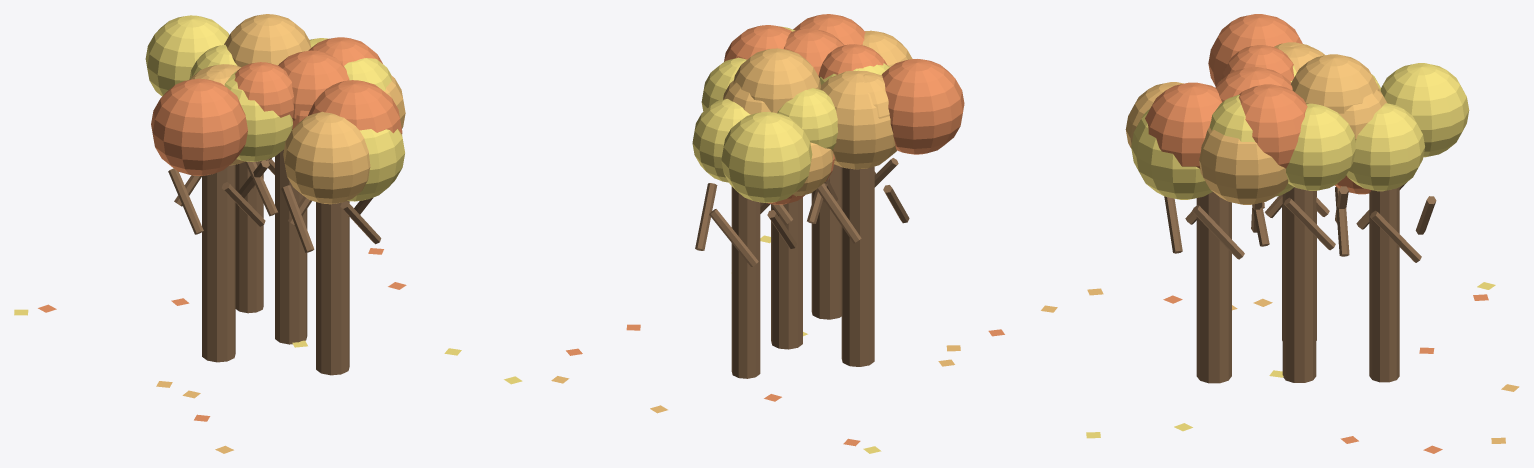
File: maple_grove.glb
The picture shows the model from 3 angles, left to right: view 1: azimuth 30°, elevation 25°; view 2: azimuth 150°, elevation 25°; view 3: azimuth 270°, elevation 25°; orthographic projection. The views are drawn at different scales.
Parts seen in each view (by area): view 1: maple_grove; view 2: maple_grove; view 3: maple_grove.
Part boxes in pixels (x1,y1,x2,y2): maple_grove: (14, 14, 522, 453); maple_grove: (551, 14, 1057, 453); maple_grove: (1086, 14, 1519, 453).
Bounding box in the file's own units: 2.87 × 2.45 × 3.06.
